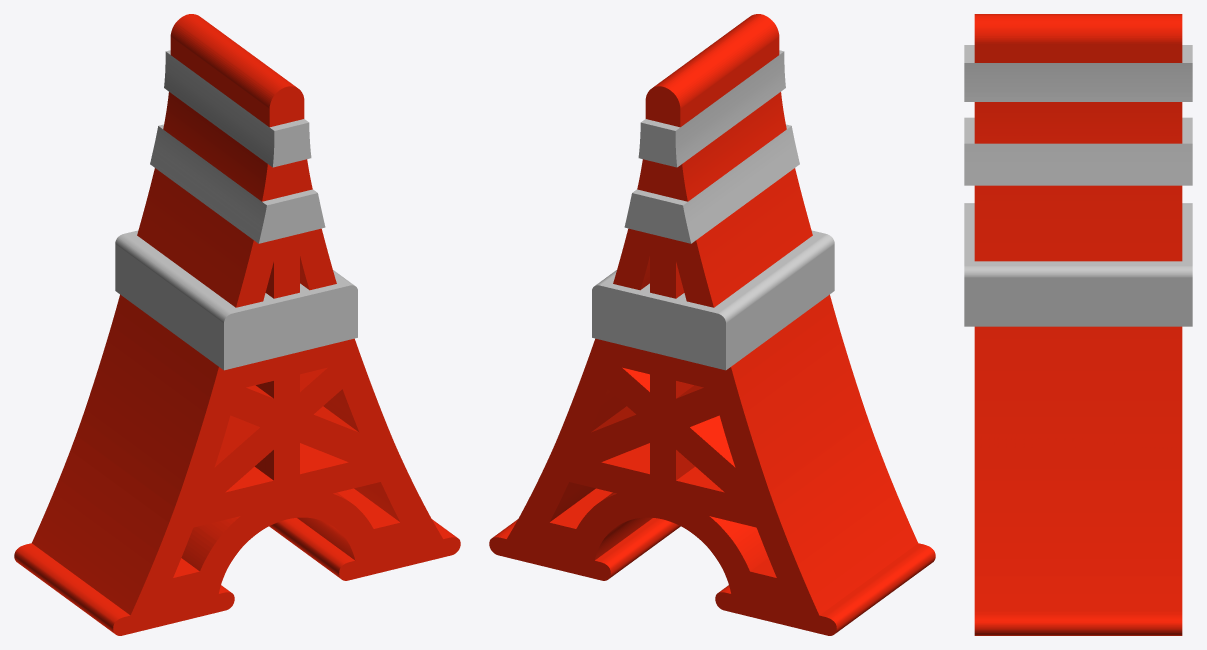
3 renders of one model, left to right at view 1: azimuth 30°, elevation 25°; view 2: azimuth 150°, elevation 25°; view 3: azimuth 270°, elevation 25°, orthographic. The views are drawn at different scales.
Parts seen in each view (by area): view 1: U+1F5FC_layer00_obj00, U+1F5FC_layer01_obj00; view 2: U+1F5FC_layer00_obj00, U+1F5FC_layer01_obj00; view 3: U+1F5FC_layer00_obj00, U+1F5FC_layer01_obj00.
Boxes of the visible parts, left/top/right/bottom form: U+1F5FC_layer00_obj00: left=14, top=14, right=460, bottom=635; U+1F5FC_layer01_obj00: left=115, top=50, right=357, bottom=370; U+1F5FC_layer00_obj00: left=489, top=14, right=935, bottom=635; U+1F5FC_layer01_obj00: left=592, top=50, right=834, bottom=370; U+1F5FC_layer00_obj00: left=974, top=14, right=1182, bottom=635; U+1F5FC_layer01_obj00: left=964, top=45, right=1192, bottom=326.
Bounding box in the file's own units: 0.4058 × 0.5677 × 0.22.
